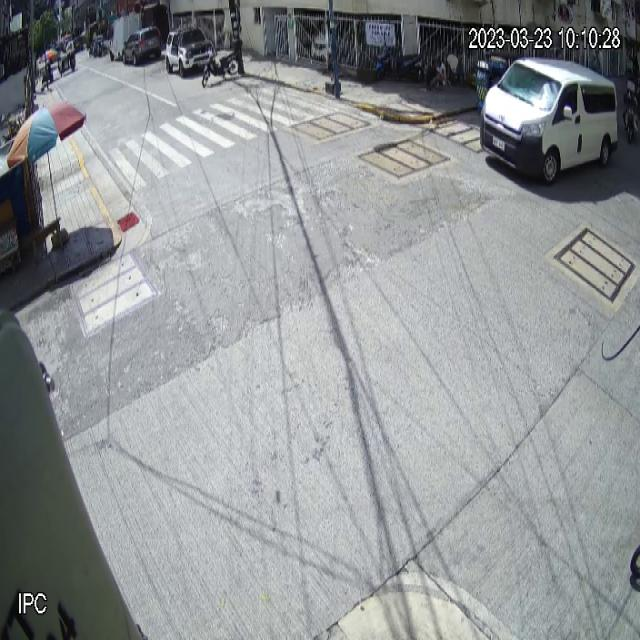Motorcycle: (202, 36, 243, 88)
Van: (479, 57, 619, 187)
